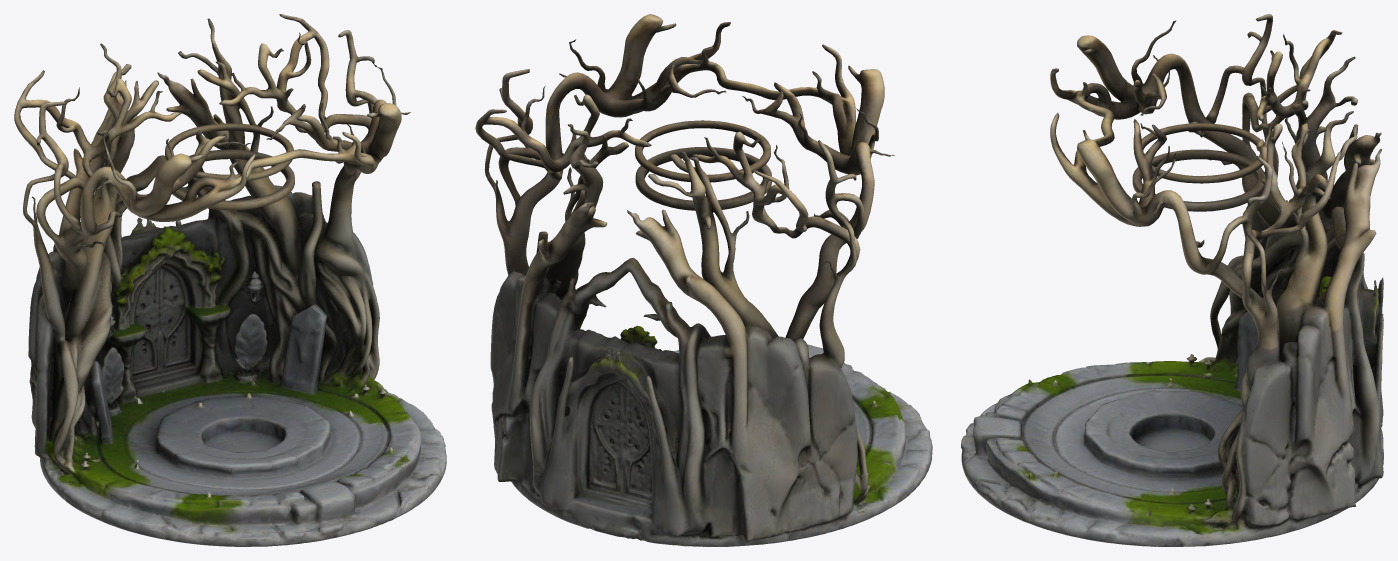
The model's file is spawn_gazebo_mobile.glb.
The picture shows the model from 3 angles, left to right: view 1: azimuth 30°, elevation 25°; view 2: azimuth 150°, elevation 25°; view 3: azimuth 270°, elevation 25°; orthographic projection. The views are drawn at different scales.
Bounding box in the file's own units: 1.98 × 1.96 × 2.
Materials: 1 (1 with a texture image).
